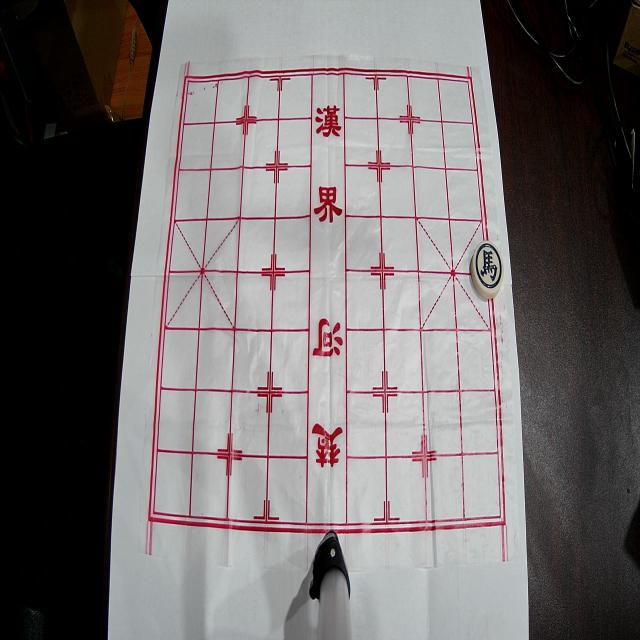black-horse: (471, 241, 504, 299)
